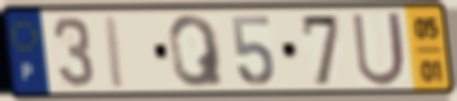3: (51, 13, 98, 92)
5: (229, 12, 277, 88)
7: (298, 12, 344, 88)
I: (101, 13, 128, 92)
Q: (165, 12, 228, 90)
U: (349, 9, 409, 90)
